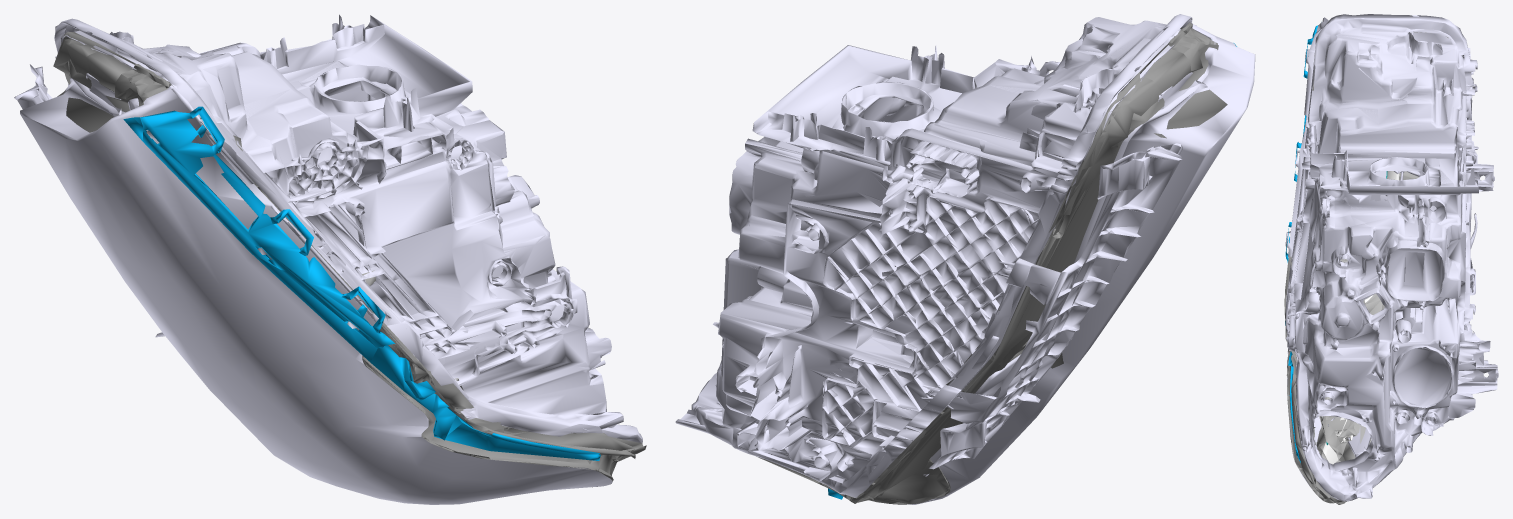
File: series-3-low-lod.glb
3 views of the same model, side by side, from view 1: azimuth 30°, elevation 25°; view 2: azimuth 150°, elevation 25°; view 3: azimuth 270°, elevation 25° (orthographic). The views are drawn at different scales.
Visible parts, largest first — view 1: headlight-simpler, visor, hanger, outer-liner; view 2: headlight-simpler, outer-liner, visor; view 3: headlight-simpler, inner-body, outer-liner, visor, hanger, griddy-thing-case.
Part boxes in pixels (<box>): headlight-simpler: <box>14,14,642,443</box>; visor: <box>20,77,612,504</box>; hanger: <box>123,106,600,460</box>; outer-liner: <box>53,31,646,487</box>; headlight-simpler: <box>675,14,1207,497</box>; outer-liner: <box>756,22,1227,504</box>; visor: <box>908,22,1255,504</box>; headlight-simpler: <box>1285,14,1498,501</box>; inner-body: <box>1316,171,1418,462</box>; outer-liner: <box>1284,31,1448,504</box>; visor: <box>1285,17,1386,488</box>; hanger: <box>1285,25,1318,462</box>; griddy-thing-case: <box>1316,171,1399,464</box>.
Bounding box in the file's own units: 19.61 × 17.54 × 9.81.
